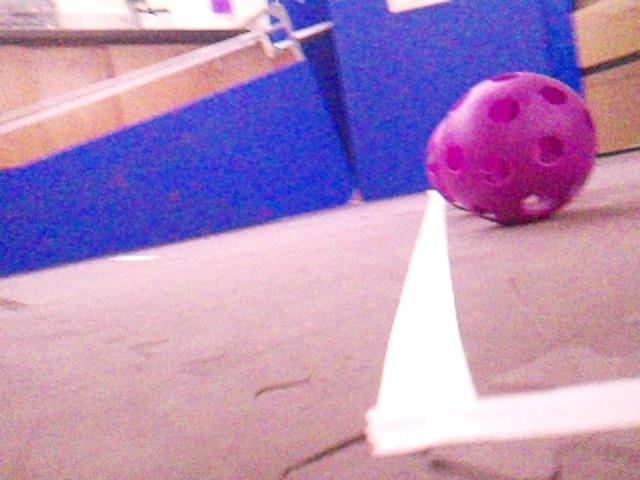Purple: (437, 71, 599, 227), (424, 120, 462, 214)
